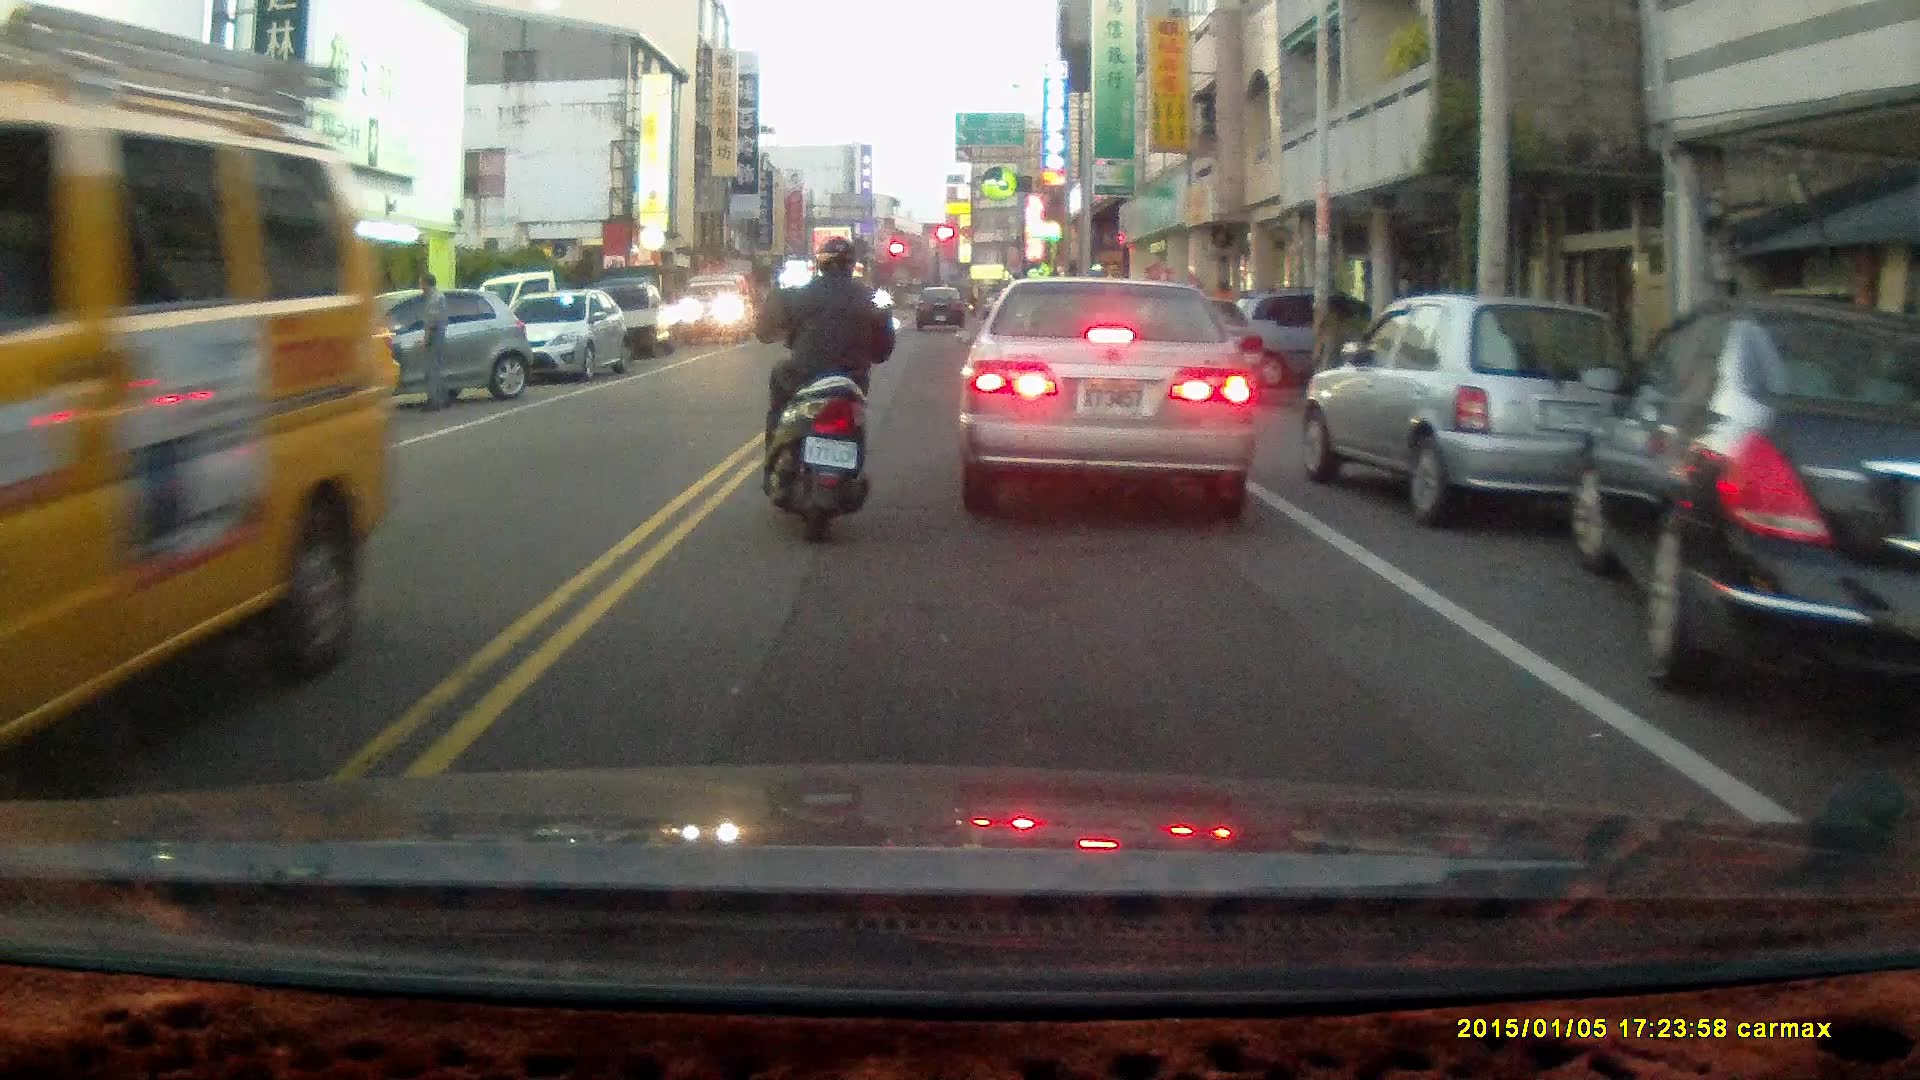pedestrian: (407, 271, 452, 415)
rider: (766, 237, 910, 551)
vehicle: (1, 39, 397, 800), (1566, 297, 1920, 728), (1300, 297, 1639, 532), (958, 274, 1261, 516), (312, 281, 530, 408), (512, 287, 637, 385), (676, 275, 762, 344)
